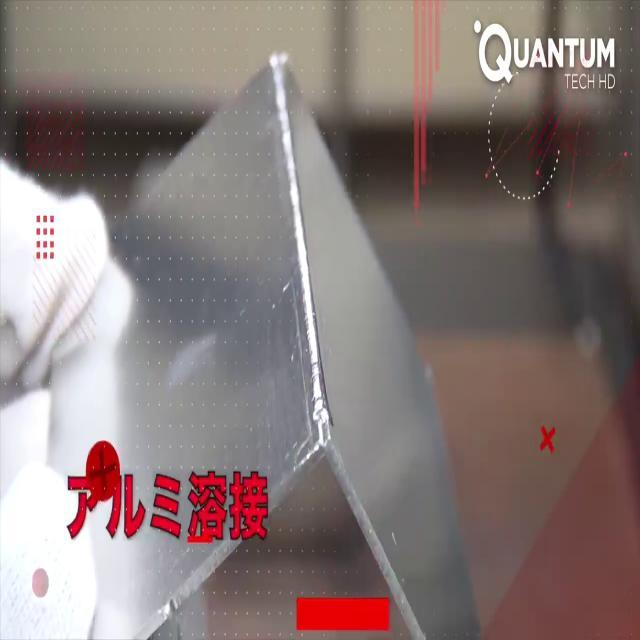Good Welding: (267, 54, 329, 403)
